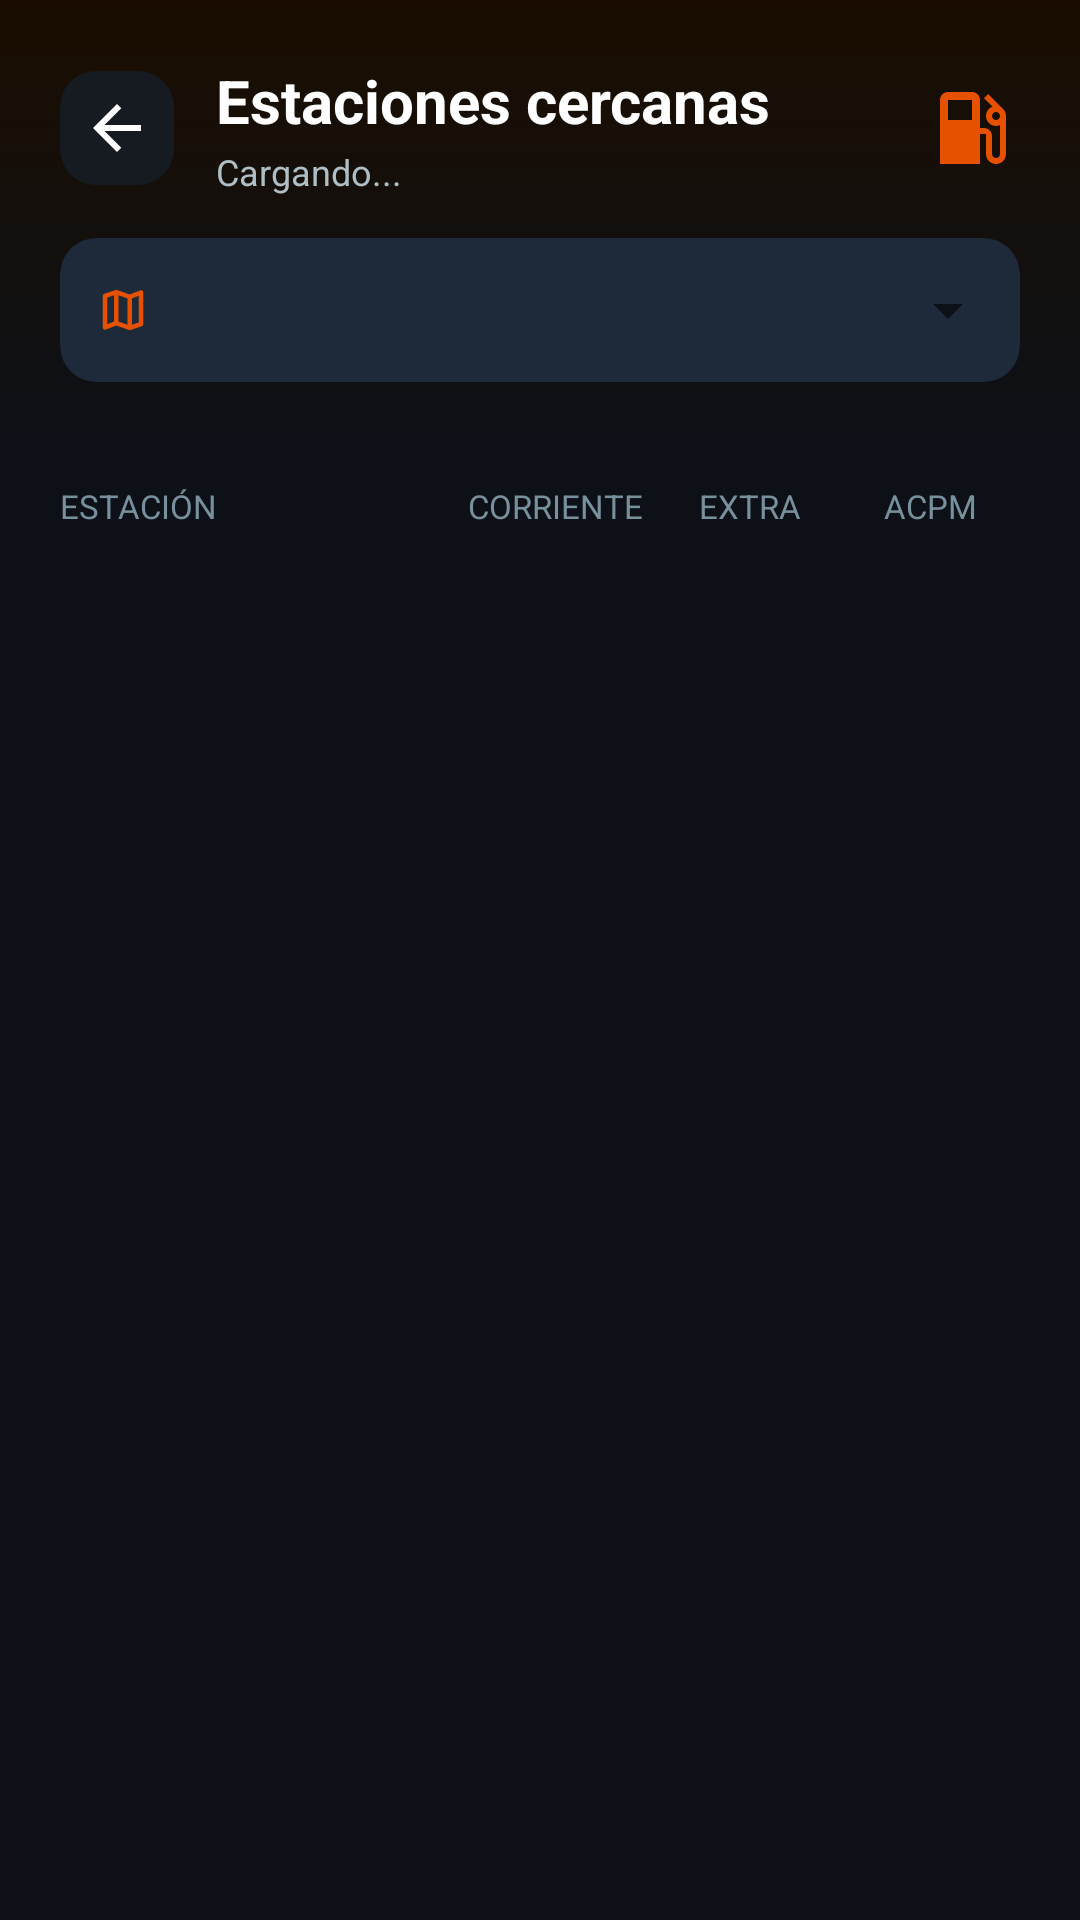

Where to tap for icons on this 1080 x 1920 app screen, as point (x, y):
price zone: point (123, 310)
Volver: point (117, 128)
